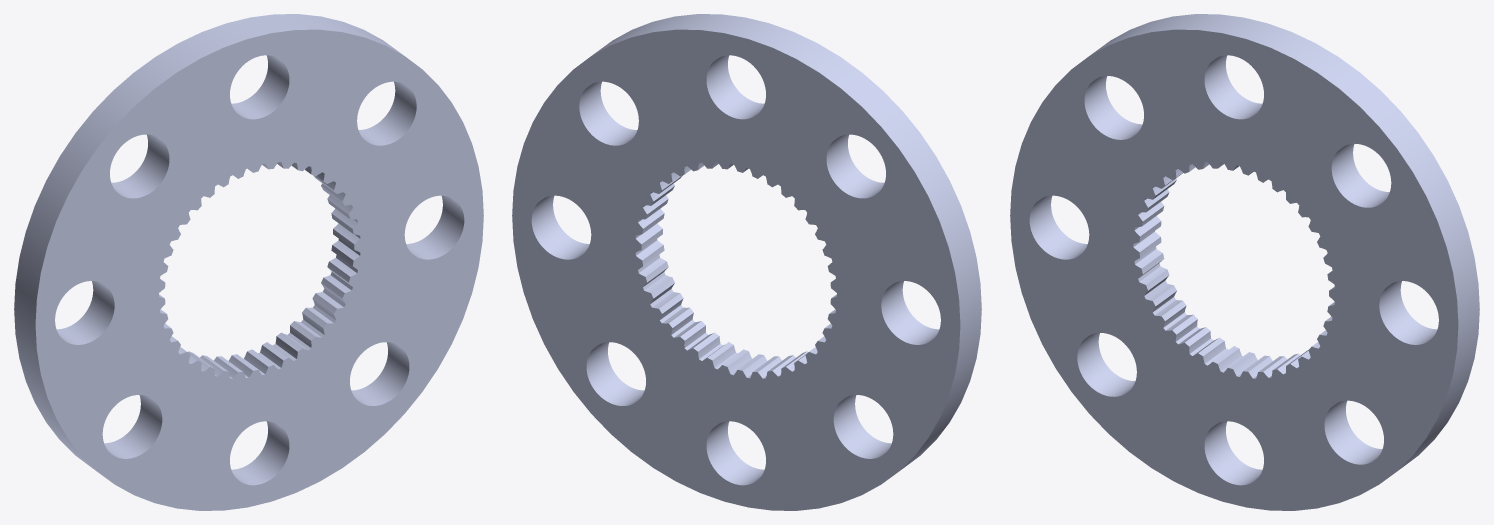
Rendered from REV_21_2101_A02_1_REV_21_2101_P04_1_solid1.obj.
3 renders of one model, left to right at view 1: azimuth 30°, elevation 25°; view 2: azimuth 150°, elevation 25°; view 3: azimuth 330°, elevation 25°, orthographic.
Parts seen in each view (by area): view 1: mesh22240, mesh22239, mesh22238, mesh22406, mesh22409, mesh22407, mesh22410, mesh22412, mesh22413, mesh22408, mesh22411; view 2: mesh22241, mesh22239, mesh22238, mesh22406, mesh22409, mesh22407, mesh22410, mesh22412, mesh22413, mesh22408, mesh22411; view 3: mesh22240, mesh22239, mesh22238, mesh22406, mesh22407, mesh22410, mesh22408, mesh22411, mesh22412, mesh22413, mesh22409.
Boxes of the visible parts, left/top/right/bottom form: mesh22240: left=35, top=29, right=483, bottom=510; mesh22239: left=14, top=14, right=403, bottom=324; mesh22238: left=14, top=309, right=106, bottom=478; mesh22406: left=231, top=430, right=289, bottom=485; mesh22409: left=111, top=144, right=169, bottom=198; mesh22407: left=104, top=404, right=162, bottom=458; mesh22410: left=231, top=64, right=289, bottom=119; mesh22412: left=406, top=205, right=464, bottom=259; mesh22413: left=351, top=351, right=409, bottom=405; mesh22408: left=56, top=290, right=114, bottom=344; mesh22411: left=358, top=91, right=416, bottom=145; mesh22241: left=512, top=29, right=960, bottom=510; mesh22239: left=592, top=14, right=981, bottom=324; mesh22238: left=889, top=309, right=981, bottom=478; mesh22406: left=706, top=430, right=764, bottom=485; mesh22409: left=826, top=144, right=884, bottom=198; mesh22407: left=833, top=404, right=891, bottom=458; mesh22410: left=706, top=64, right=764, bottom=119; mesh22412: left=531, top=205, right=589, bottom=259; mesh22413: left=586, top=351, right=644, bottom=405; mesh22408: left=881, top=290, right=939, bottom=344; mesh22411: left=579, top=91, right=637, bottom=145; mesh22240: left=1010, top=29, right=1458, bottom=510; mesh22239: left=1090, top=14, right=1479, bottom=324; mesh22238: left=1387, top=309, right=1479, bottom=478; mesh22406: left=1204, top=430, right=1262, bottom=485; mesh22407: left=1077, top=342, right=1135, bottom=396; mesh22410: left=1204, top=64, right=1262, bottom=119; mesh22408: left=1029, top=205, right=1087, bottom=259; mesh22411: left=1331, top=153, right=1389, bottom=207; mesh22412: left=1379, top=290, right=1437, bottom=344; mesh22413: left=1324, top=410, right=1382, bottom=464; mesh22409: left=1084, top=85, right=1142, bottom=139.
Bounding box in the file's own units: 0.045 × 0.0449 × 0.00372.
